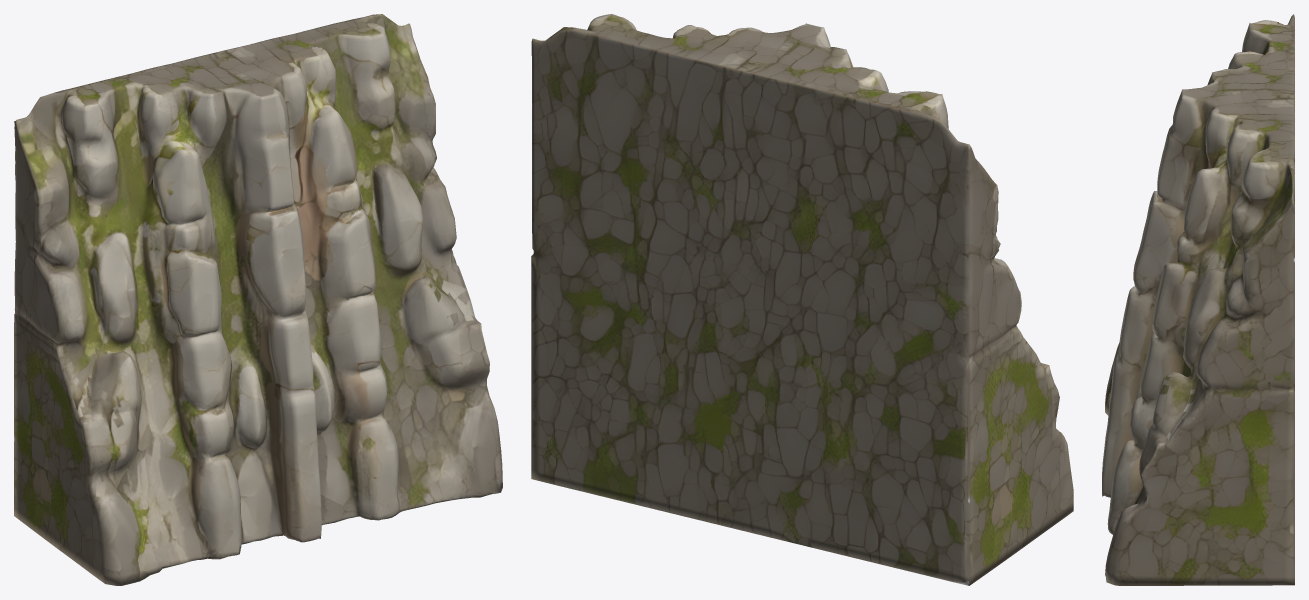
Rendered from realistic-cliff.glb.
The picture shows the model from 3 angles, left to right: view 1: azimuth 30°, elevation 25°; view 2: azimuth 150°, elevation 25°; view 3: azimuth 270°, elevation 25°; orthographic projection. The views are drawn at different scales.
Parts seen in each view (by area): view 1: model; view 2: model; view 3: model.
Part boxes in pixels (x1=…): model: x1=14, y1=14, x2=502, y2=585; model: x1=531, y1=14, x2=1073, y2=585; model: x1=1102, y1=14, x2=1294, y2=585.
Size of the model in its own units: 1.9 by 1.89 by 0.8282.
1 material, 1 textured.
